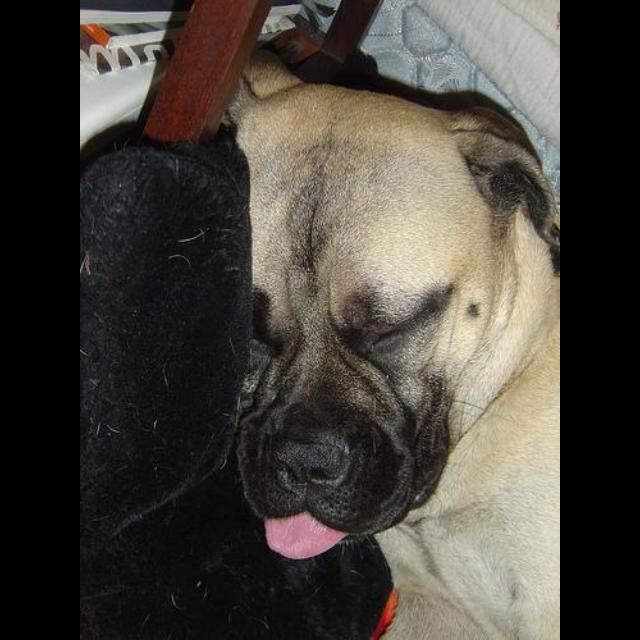bullmastiff: (225, 54, 561, 640)
